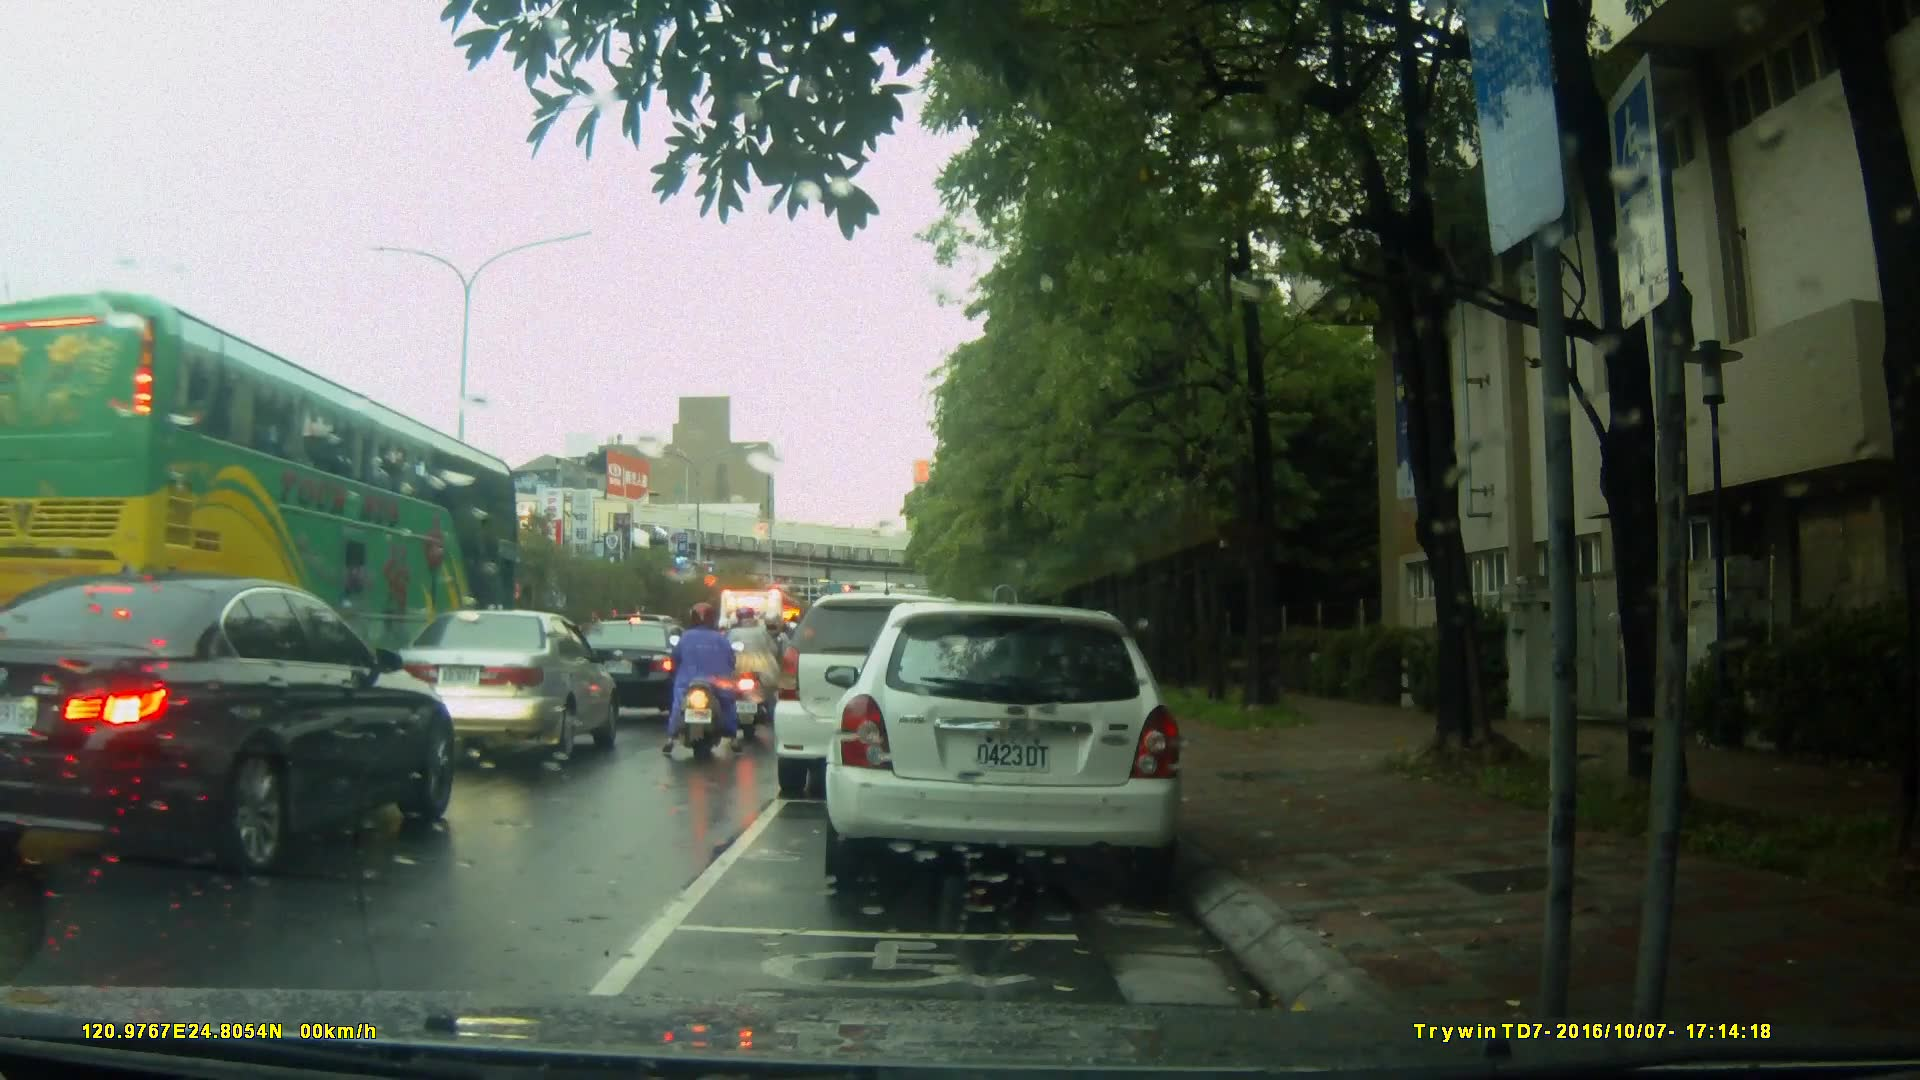rider: (664, 605, 731, 760), (735, 603, 788, 728)
vehicle: (1, 287, 526, 654), (9, 575, 459, 887), (831, 592, 1196, 897), (771, 592, 999, 798), (384, 610, 620, 772), (566, 619, 689, 722), (718, 586, 802, 706)
